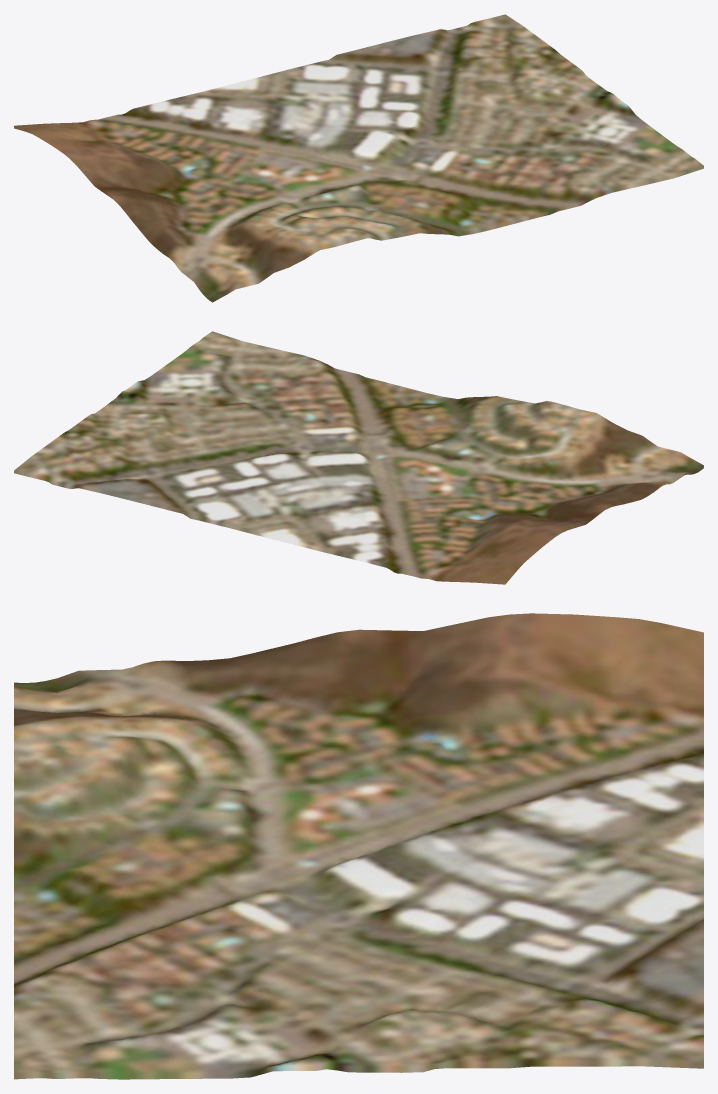
File: terrain_r5_c6_lod1.glb
3 renders of one model, top to bottom at view 1: azimuth 30°, elevation 25°; view 2: azimuth 150°, elevation 25°; view 3: azimuth 270°, elevation 25°, orthographic. The views are drawn at different scales.
Visible parts, largest first — view 1: terrain_r5_c6_lod1; view 2: terrain_r5_c6_lod1; view 3: terrain_r5_c6_lod1.
Part boxes in pixels (<box>): terrain_r5_c6_lod1: <box>14,14,703,302</box>; terrain_r5_c6_lod1: <box>14,331,703,584</box>; terrain_r5_c6_lod1: <box>14,613,703,1079</box>.
Size of the model in its own units: 1125 by 93.73 by 787.
1 material, 1 textured.
